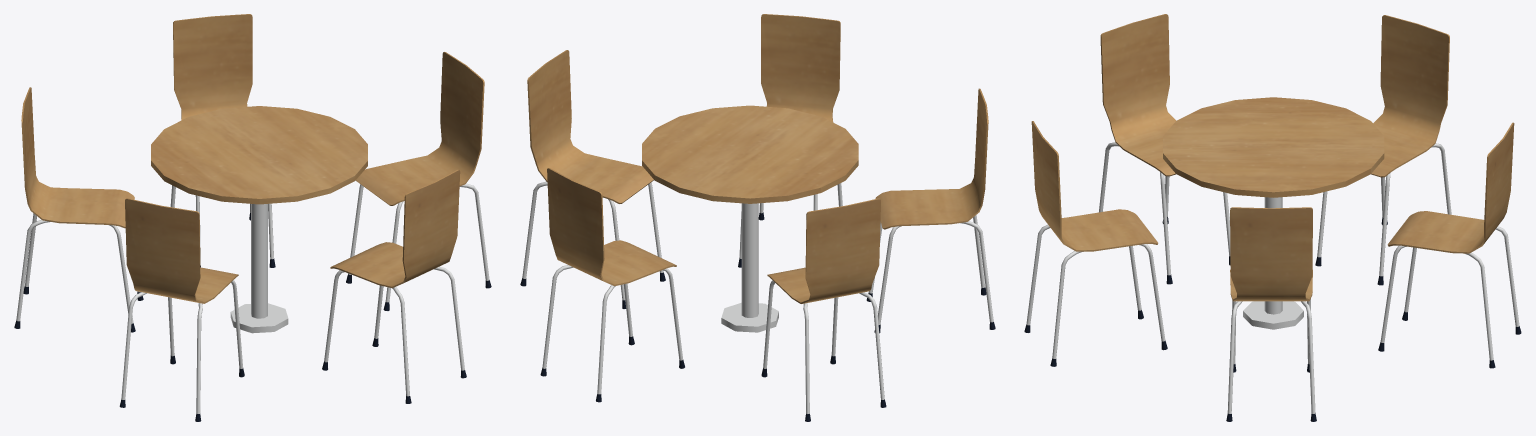
Rendered from YuanZhuoYi.FBX.
3 renders of one model, left to right at view 1: azimuth 30°, elevation 25°; view 2: azimuth 150°, elevation 25°; view 3: azimuth 270°, elevation 25°, orthographic. The views are drawn at different scales.
Visible parts, largest first — view 1: YF_Model_YuanZhuoYi_001, YF_Model_YuanZhuoYi_003, YF_Model_YuanZhuoYi_002, YF_Model_YuanZhuoYi_006, YF_Model_YuanZhuoYi_005, YF_Model_YuanZhuoYi_004; view 2: YF_Model_YuanZhuoYi_001, YF_Model_YuanZhuoYi_004, YF_Model_YuanZhuoYi_005, YF_Model_YuanZhuoYi_006, YF_Model_YuanZhuoYi_002, YF_Model_YuanZhuoYi_003; view 3: YF_Model_YuanZhuoYi_001, YF_Model_YuanZhuoYi_004, YF_Model_YuanZhuoYi_003, YF_Model_YuanZhuoYi_006, YF_Model_YuanZhuoYi_002, YF_Model_YuanZhuoYi_005.
Boxes of the visible parts, x1,y1,x2,y2 form: YF_Model_YuanZhuoYi_001: (151,106,367,333); YF_Model_YuanZhuoYi_003: (119,198,244,421); YF_Model_YuanZhuoYi_002: (322,169,466,403); YF_Model_YuanZhuoYi_006: (346,52,491,310); YF_Model_YuanZhuoYi_005: (170,14,275,267); YF_Model_YuanZhuoYi_004: (14,87,143,332); YF_Model_YuanZhuoYi_001: (642,105,858,332); YF_Model_YuanZhuoYi_004: (761,198,886,421); YF_Model_YuanZhuoYi_005: (540,168,684,402); YF_Model_YuanZhuoYi_006: (520,50,665,308); YF_Model_YuanZhuoYi_002: (738,14,842,267); YF_Model_YuanZhuoYi_003: (866,88,995,333); YF_Model_YuanZhuoYi_001: (1163,97,1384,329); YF_Model_YuanZhuoYi_004: (1315,15,1451,285); YF_Model_YuanZhuoYi_003: (1098,14,1230,284); YF_Model_YuanZhuoYi_006: (1226,207,1316,421); YF_Model_YuanZhuoYi_002: (1024,121,1167,366); YF_Model_YuanZhuoYi_005: (1378,122,1521,368).
Bounding box in the file's own units: 463 × 228 × 485.
Materials: 1 (1 with a texture image).
